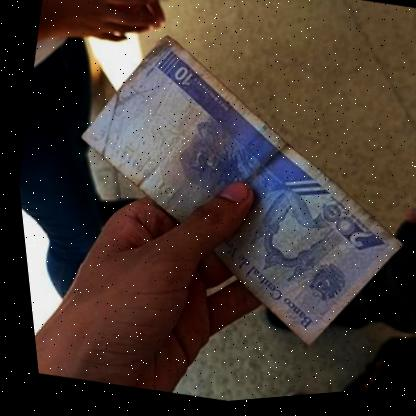ten-back-vef: (25, 3, 416, 394)
